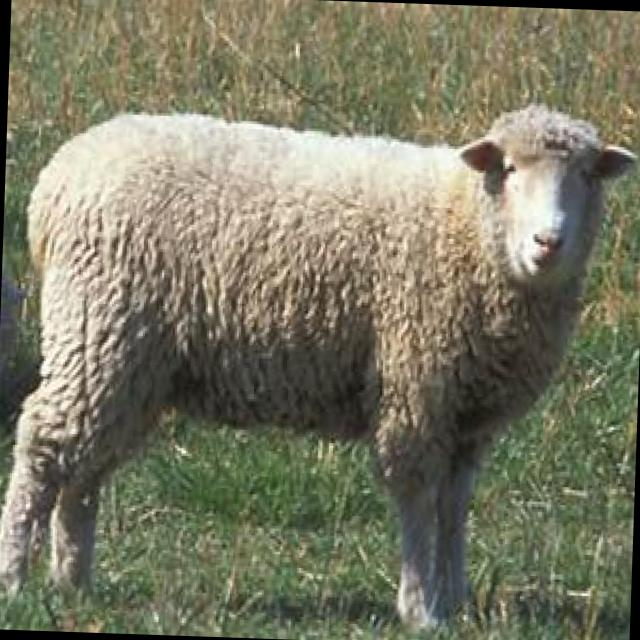sheep: (0, 81, 638, 640)
